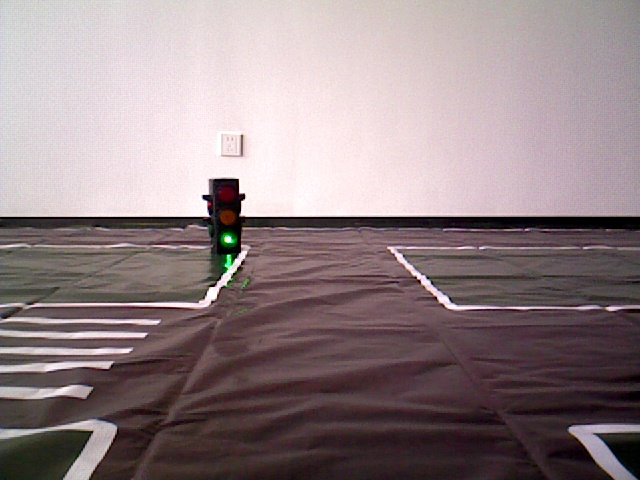green: (208, 183, 240, 246)
